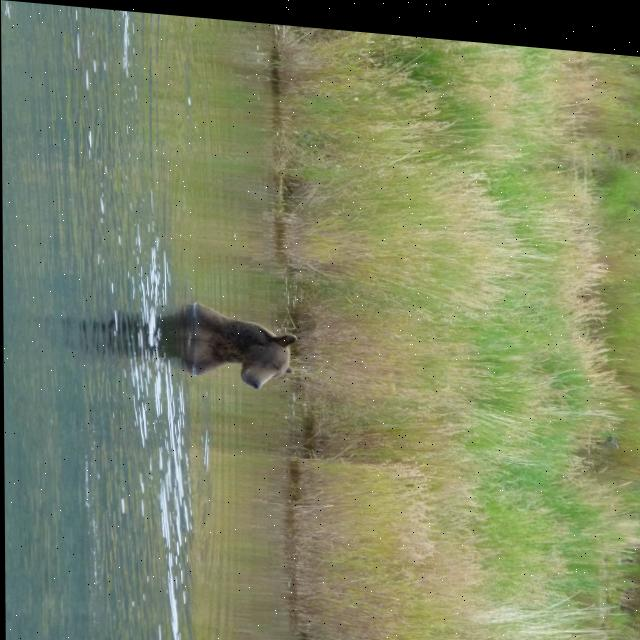bear face: (190, 301, 296, 388)
